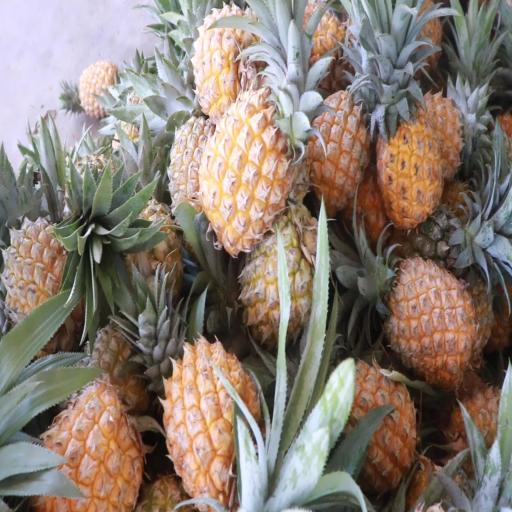------------------------------: (236, 220, 319, 350)
Pineapple - v8 v1: (166, 342, 259, 502), (26, 383, 141, 512), (201, 98, 288, 248), (336, 363, 417, 488), (384, 261, 472, 375), (305, 86, 370, 208), (378, 110, 444, 225), (194, 10, 260, 116)
